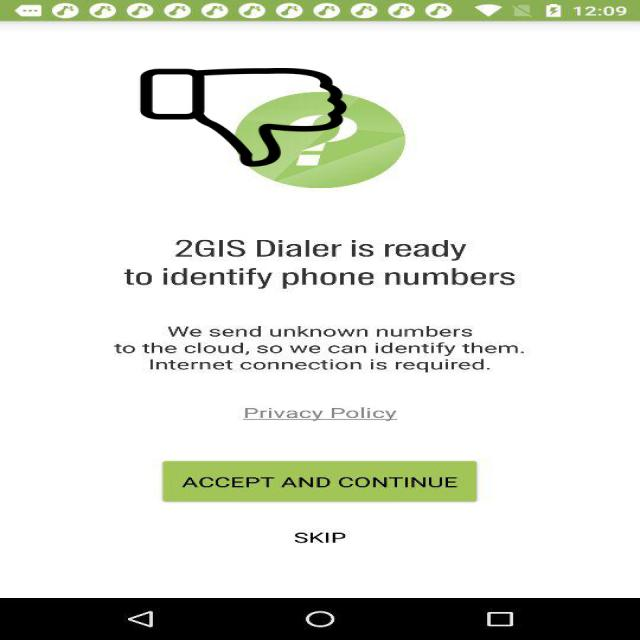obstruction: (138, 68, 350, 167)
